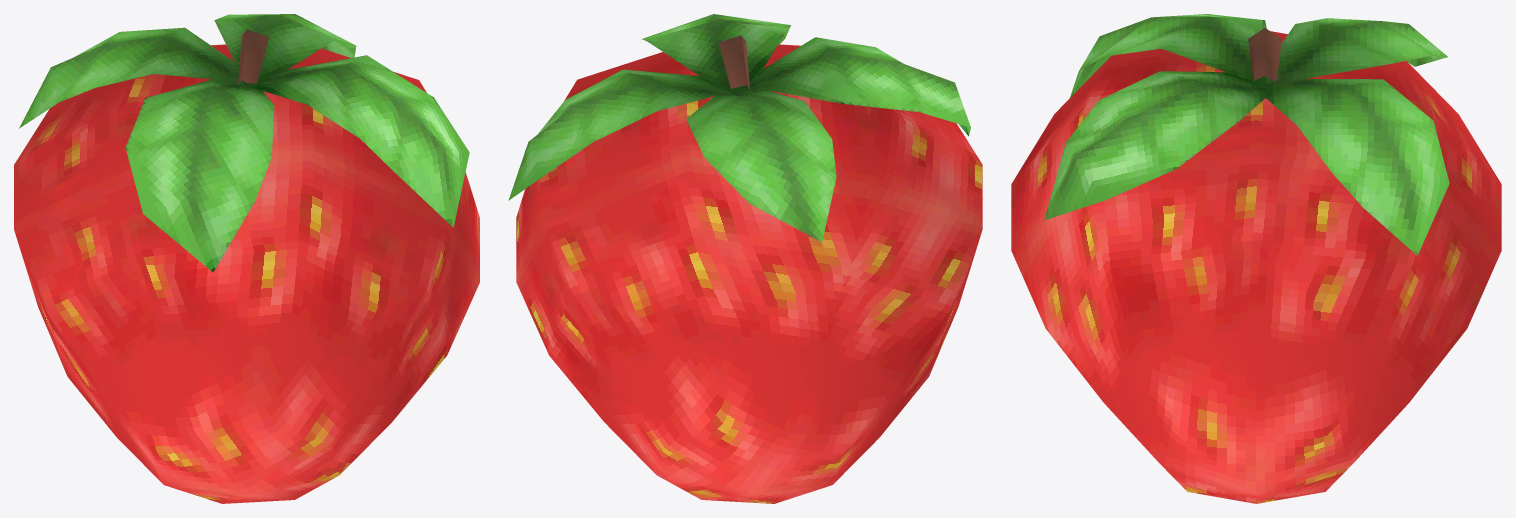
File: ps2_save-icons_strawberryshortcake.glb
3 views of the same model, side by side, from view 1: azimuth 30°, elevation 25°; view 2: azimuth 150°, elevation 25°; view 3: azimuth 270°, elevation 25° (orthographic).
Visible parts, largest first — view 1: static.icn; view 2: static.icn; view 3: static.icn.
Part boxes in pixels (<box>): static.icn: <box>14,14,479,503</box>; static.icn: <box>508,14,982,503</box>; static.icn: <box>1011,14,1501,503</box>.
Size of the model in its own units: 2.76 by 2.89 by 2.76.
Materials: 1 (1 with a texture image).
